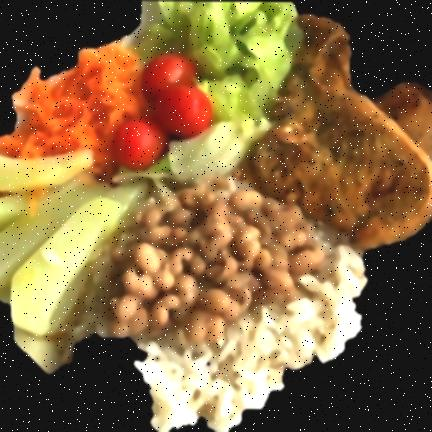beans: (111, 183, 324, 340)
carrot: (0, 42, 149, 180)
chicken: (235, 14, 432, 248)
green_vegetables: (0, 150, 145, 371)
rice: (136, 227, 366, 432)
salad: (139, 1, 298, 176)
tomato: (112, 54, 212, 169)
